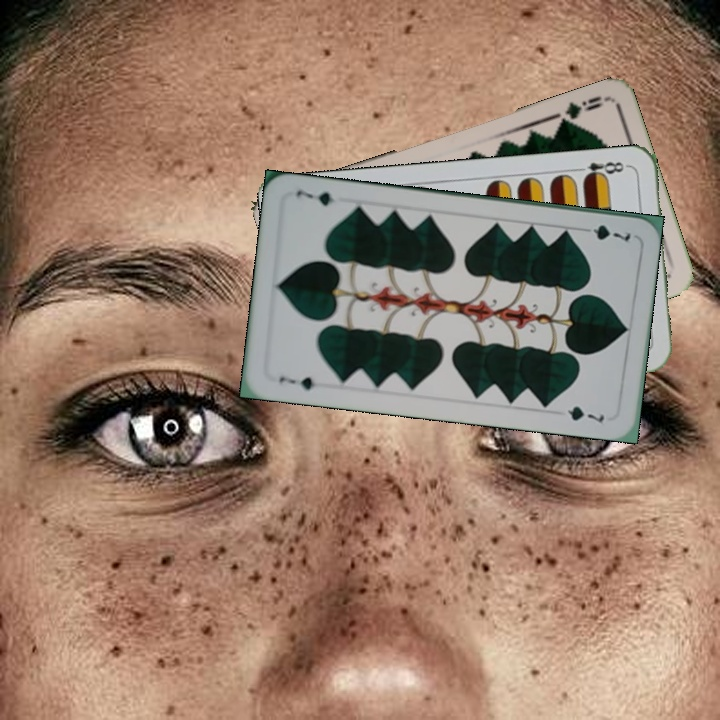E8: (572, 157, 631, 183)
G7: (576, 220, 633, 244), (274, 372, 318, 393)
G9: (551, 92, 609, 129)
